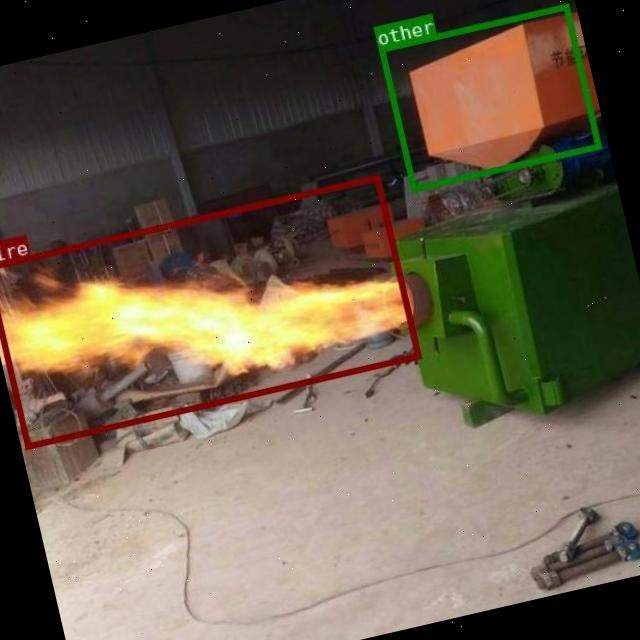fire: (0, 173, 420, 448)
